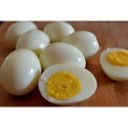begg: (40, 64, 95, 105), (3, 50, 37, 91), (43, 23, 77, 44)
